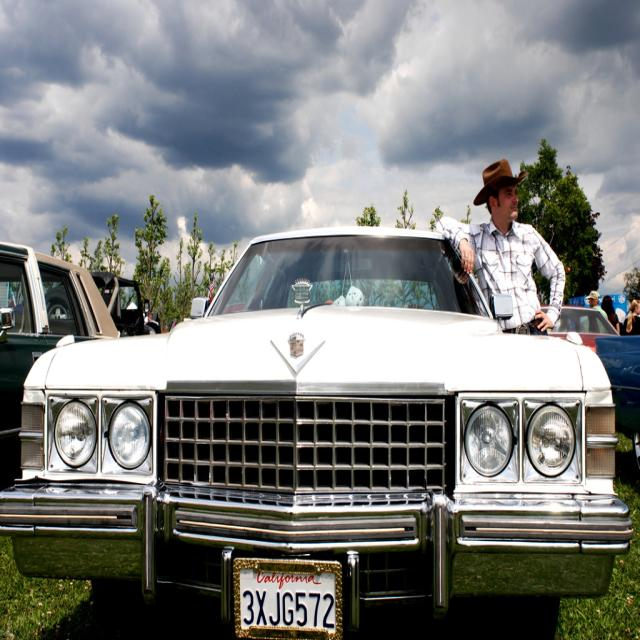car: (4, 218, 637, 638)
